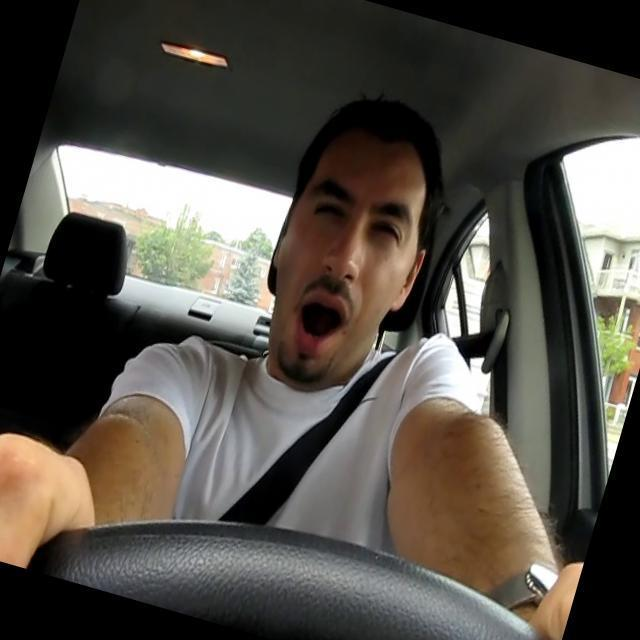open-mouth: (296, 292, 348, 350)
